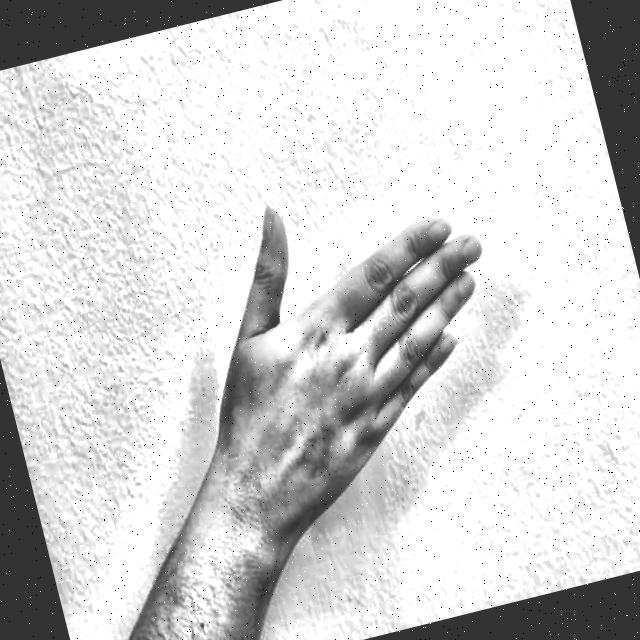Aa: (140, 79, 576, 572)
